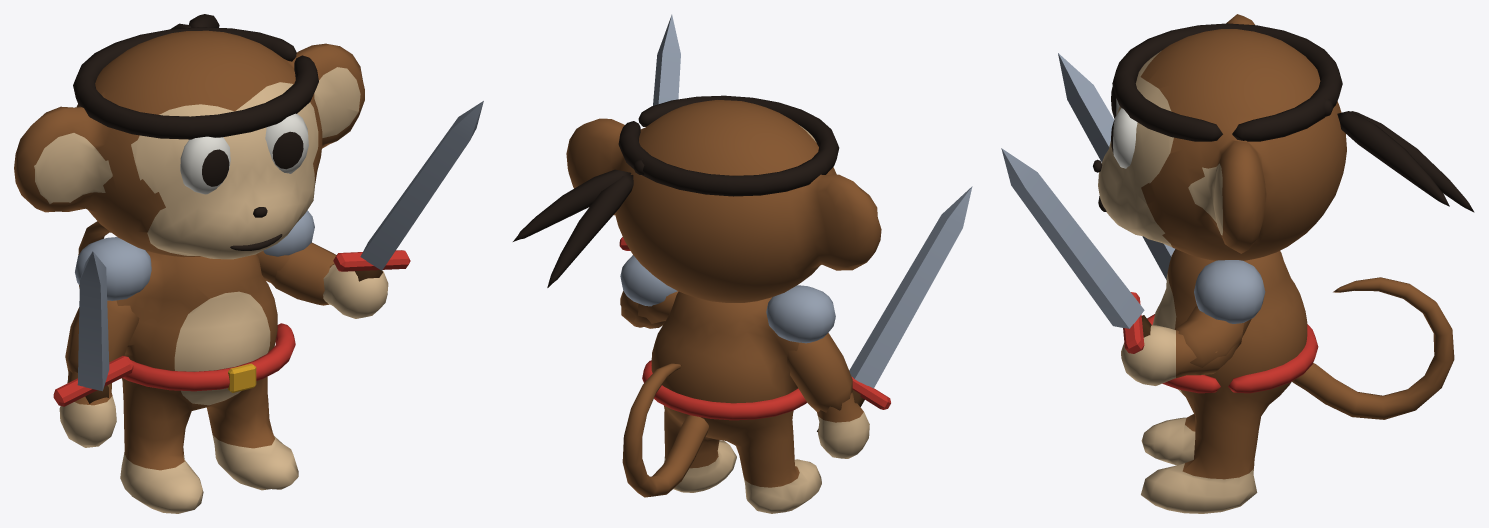
The picture shows the model from 3 angles, left to right: view 1: azimuth 30°, elevation 25°; view 2: azimuth 150°, elevation 25°; view 3: azimuth 270°, elevation 25°; orthographic projection. The views are drawn at different scales.
Visible parts, largest first — view 1: sauda_2_cabeca, sauda_0_corpo, sauda_3_braco; view 2: sauda_2_cabeca, sauda_0_corpo, sauda_1_cauda, sauda_3_braco; view 3: sauda_2_cabeca, sauda_0_corpo, sauda_3_braco, sauda_1_cauda.
Part boxes in pixels (x1,y1,x2,y2): sauda_2_cabeca: (14,14,364,259); sauda_0_corpo: (53,237,298,513); sauda_3_braco: (257,101,483,318); sauda_2_cabeca: (513,95,881,302); sauda_0_corpo: (642,186,972,513); sauda_1_cauda: (622,363,708,497); sauda_3_braco: (619,14,680,328); sauda_2_cabeca: (1093,14,1474,260); sauda_0_corpo: (1058,53,1318,513); sauda_3_braco: (1001,148,1265,385); sauda_1_cauda: (1292,277,1454,419).
Bounding box in the file's own units: 0.8396 × 0.9538 × 0.9262.
